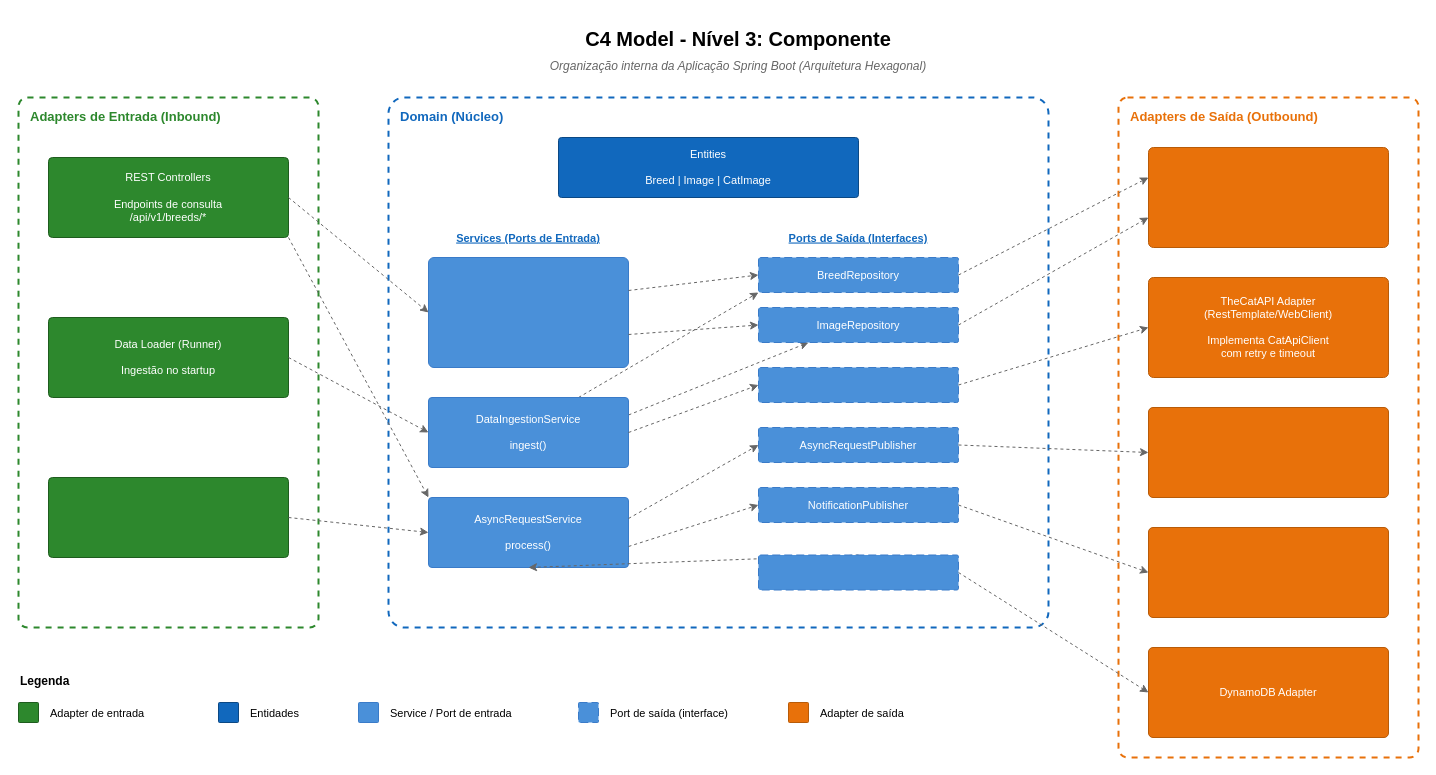
The diagram is 1436 pixels wide and 775 high, and some of its shapes have lost their labels. Here are the shapes that lost their labels. From the top down, the centre of each, then its label:
the point at 1268,197: PostgreSQL Adapter (JPA/Hibernate) Implementa BreedRepository e ImageRepository
the point at 528,312: BreedService listAll() getById() searchByTemperament() searchByOrigin()
the point at 858,384: CatApiClient
the point at 1268,452: SQS Adapter (Spring Cloud AWS) Implementa AsyncRequestPublisher
the point at 168,517: SQS Consumer Consome pedidos assíncronos da fila
the point at 858,572: SqsAsyncRequestConsumer
the point at 1268,572: SES Adapter (Spring Cloud AWS) Implementa NotificationPublisher
